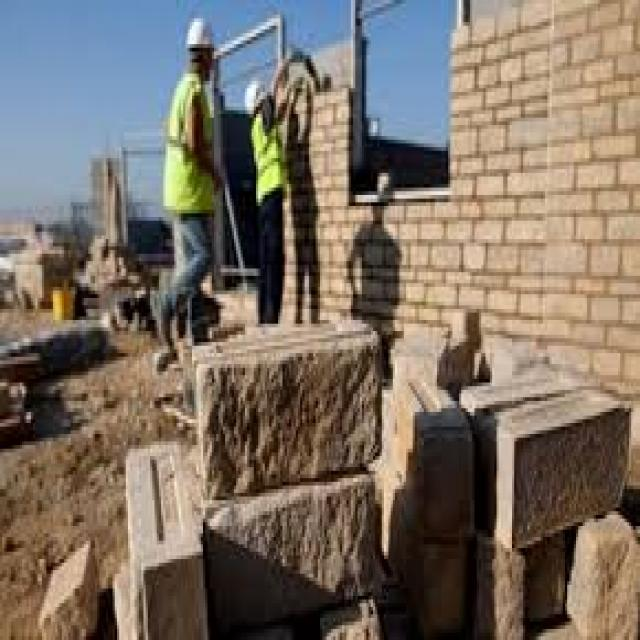Reflective-Jacket: (157, 66, 227, 235), (243, 107, 291, 213)
Safety-Helmet: (176, 4, 223, 66)
